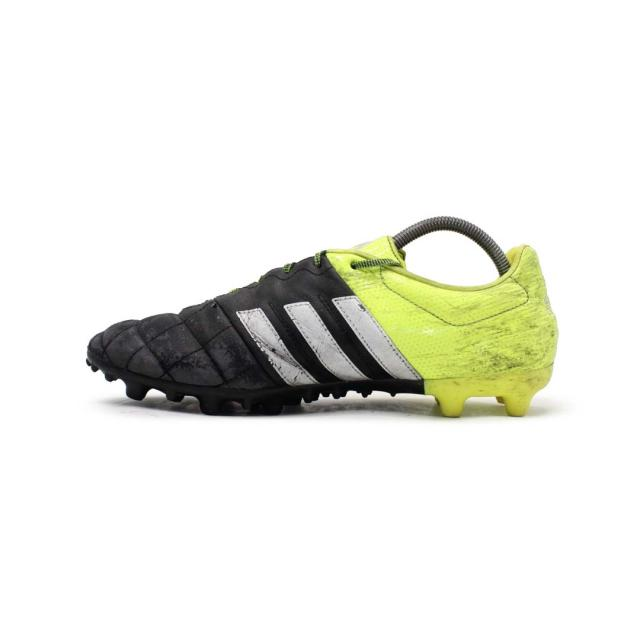heel: (507, 246, 557, 367)
midsole: (86, 330, 556, 415)
uppersole: (91, 237, 509, 384)
